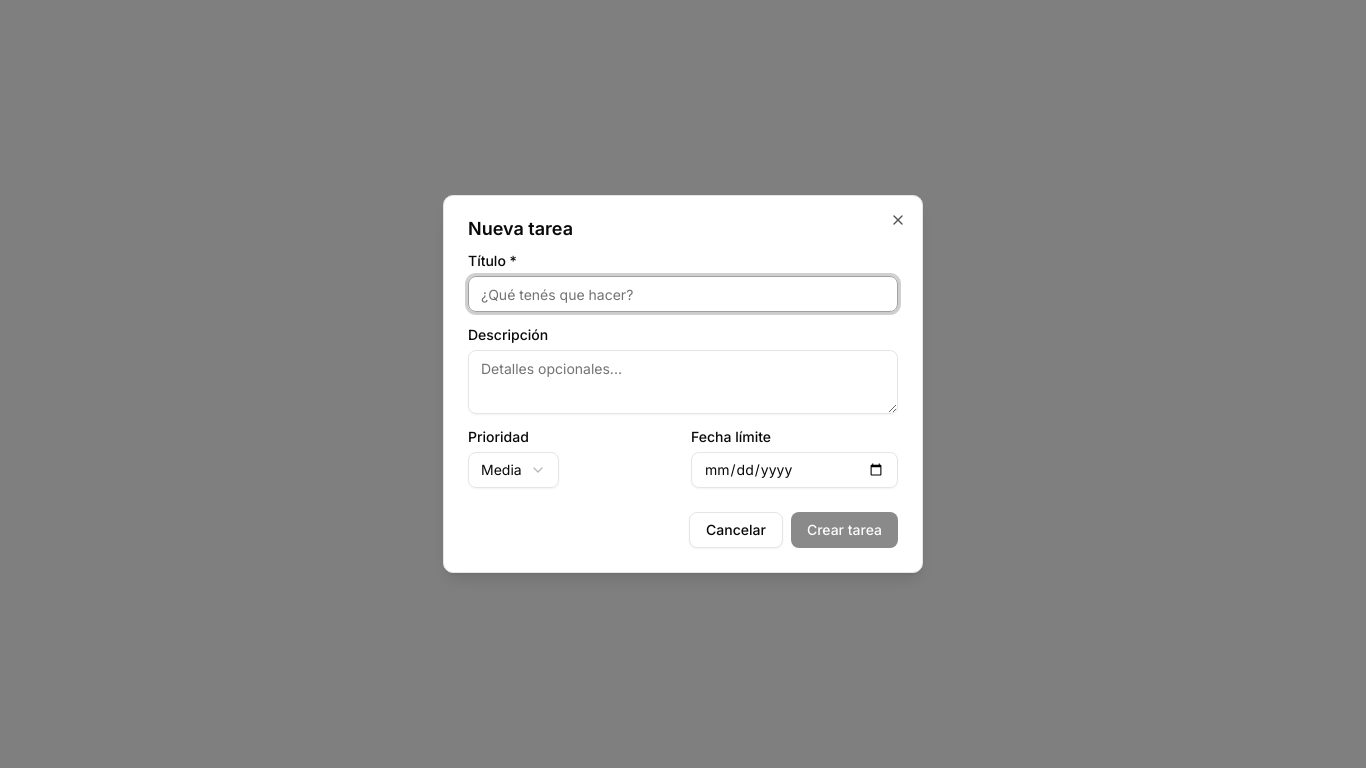
it: TodoForm — validación › el botón Crear se habilita al escribir un título
Type "Mi tarea" into the field labelled "Título *" at point(683, 294), box 468,276 -> 898,312
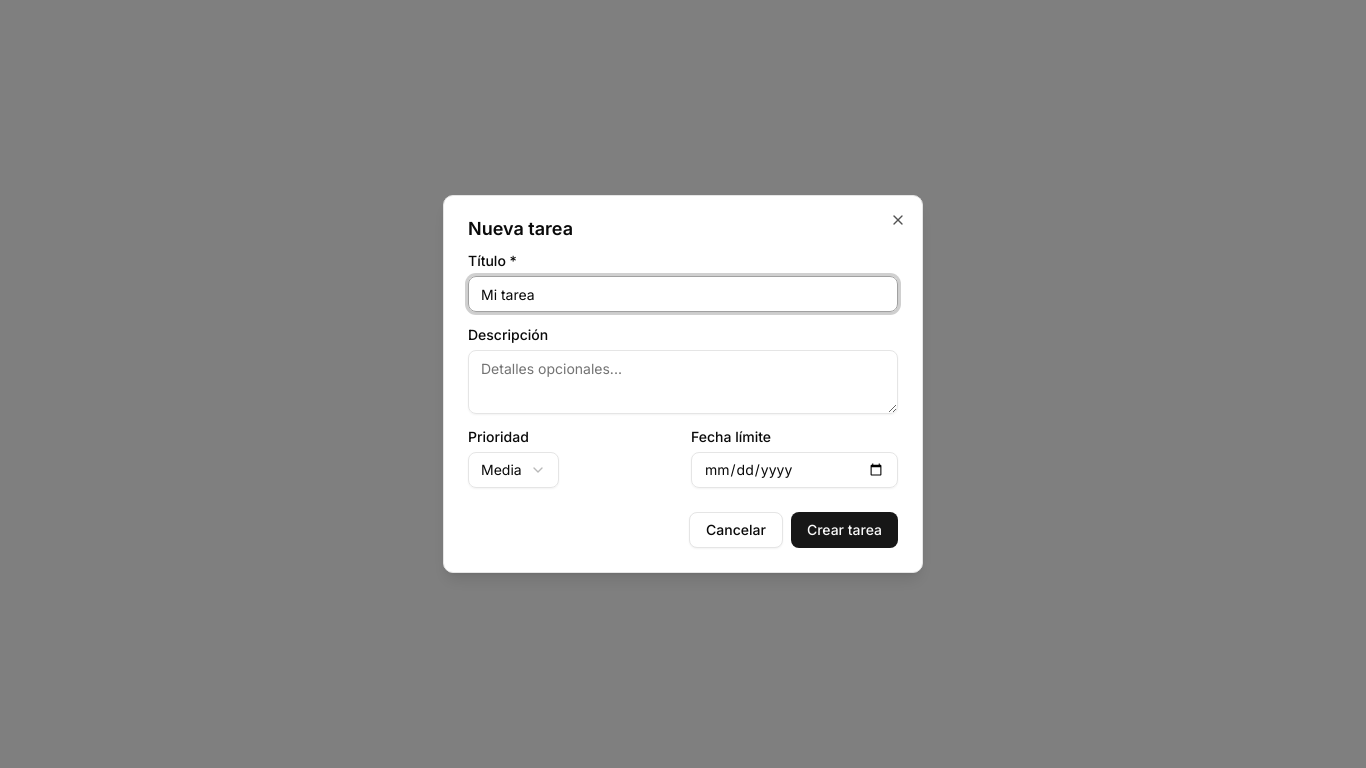
Now the button "Crear tarea" is enabled, box 791,512 -> 898,548
